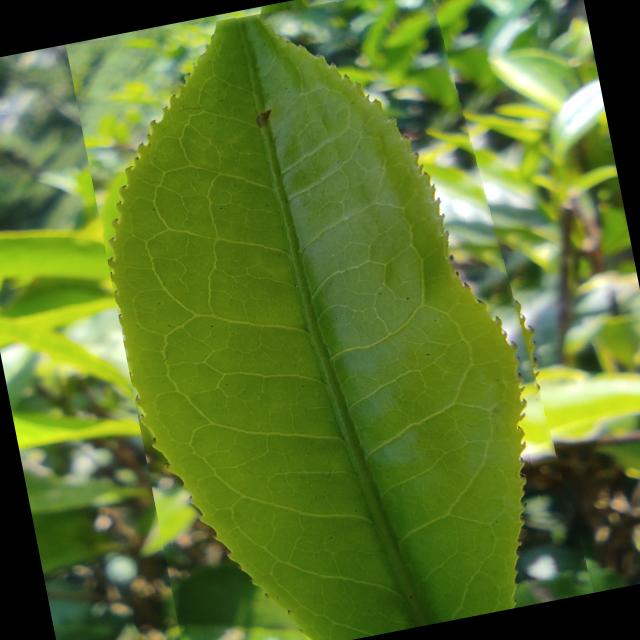Category C(4-7 days): (66, 0, 595, 640)
